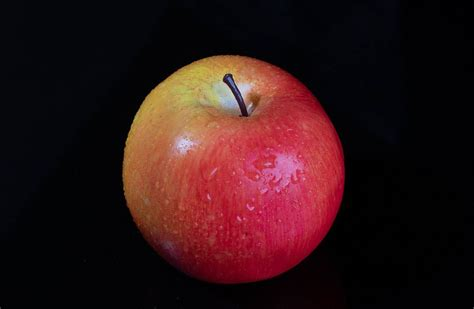apple: (122, 53, 346, 288)
